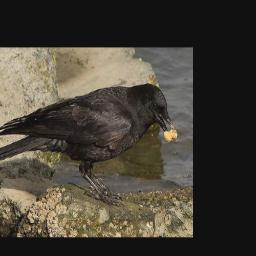Crow: (0, 82, 177, 206)
